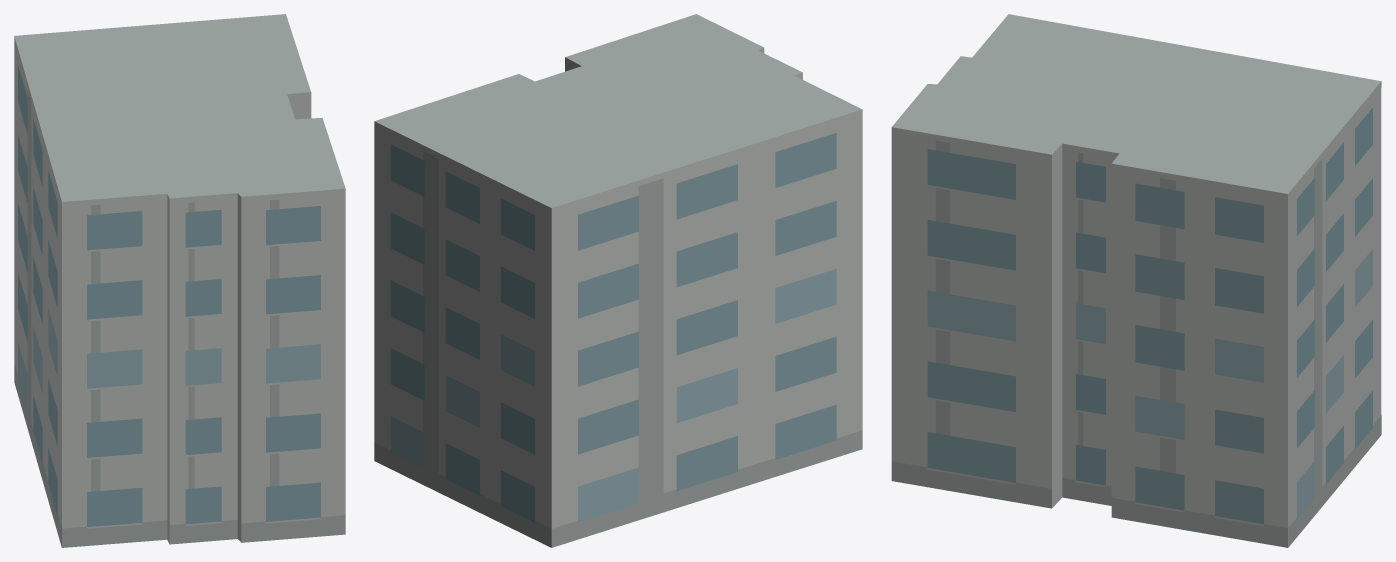
The model's file is survey-upis-32786467.glb.
3 renders of one model, left to right at view 1: azimuth 30°, elevation 25°; view 2: azimuth 150°, elevation 25°; view 3: azimuth 270°, elevation 25°, orthographic. The views are drawn at different scales.
Visible parts, largest first — view 1: survey-upis-32786467.tmp; view 2: survey-upis-32786467.tmp; view 3: survey-upis-32786467.tmp.
Boxes of the visible parts, <box> form: survey-upis-32786467.tmp: <box>14,14,345,547</box>; survey-upis-32786467.tmp: <box>374,14,862,547</box>; survey-upis-32786467.tmp: <box>891,14,1381,547</box>.
Size of the model in its own units: 15.61 by 14.3 by 17.95.
